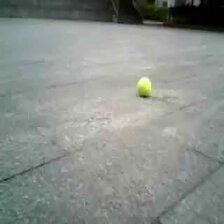tennis: (136, 78, 151, 95)
